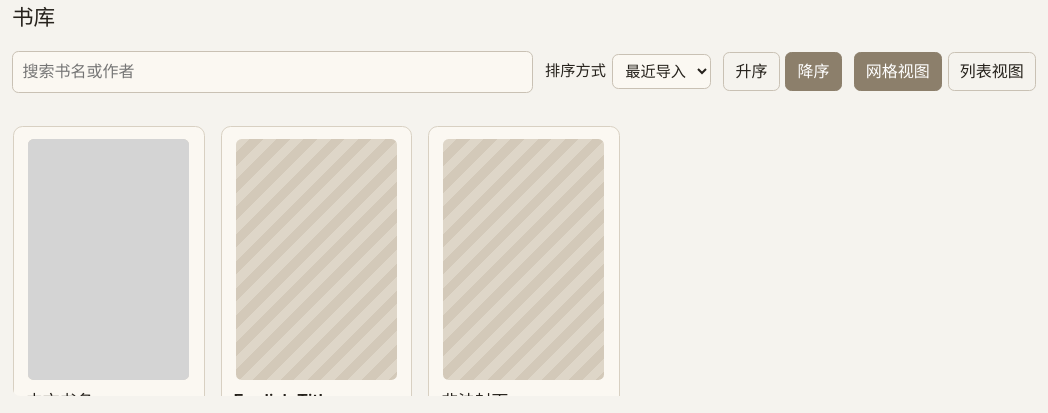
it: library page › defaults to grid and switches view without refetching
expect the list item "中文书名 作者甲 移除 English Title Author B 移除 非法封面 作者丙 移除" is shown: met, box left=13, top=126, right=620, bottom=396
Click the button "列表视图" at (992, 72), box left=948, top=52, right=1036, bottom=91
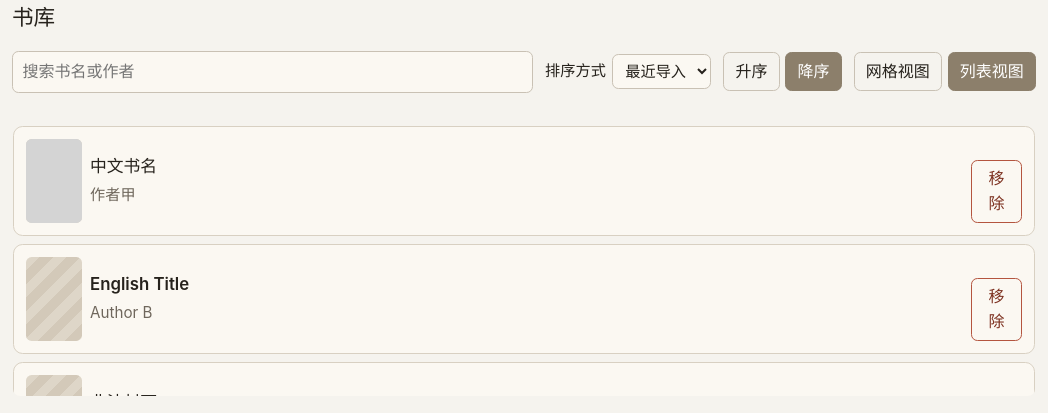
expect the list item "中文书名 作者甲 移除" is shown: met, box left=13, top=126, right=1035, bottom=244
expect the text "作者甲" is shown: met, box left=90, top=185, right=136, bottom=204
